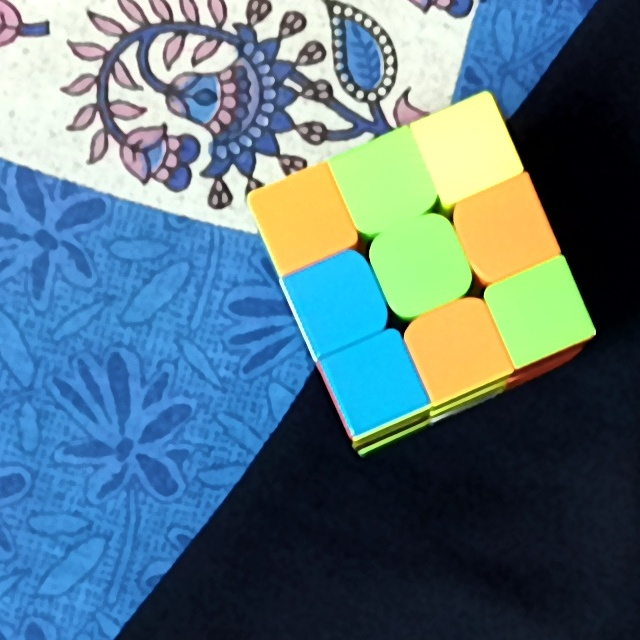tile: (349, 153, 420, 211), (507, 282, 575, 340), (426, 315, 488, 376), (273, 189, 336, 249), (302, 277, 368, 333), (475, 199, 537, 256), (391, 234, 450, 293), (346, 354, 402, 414), (442, 119, 497, 178)
